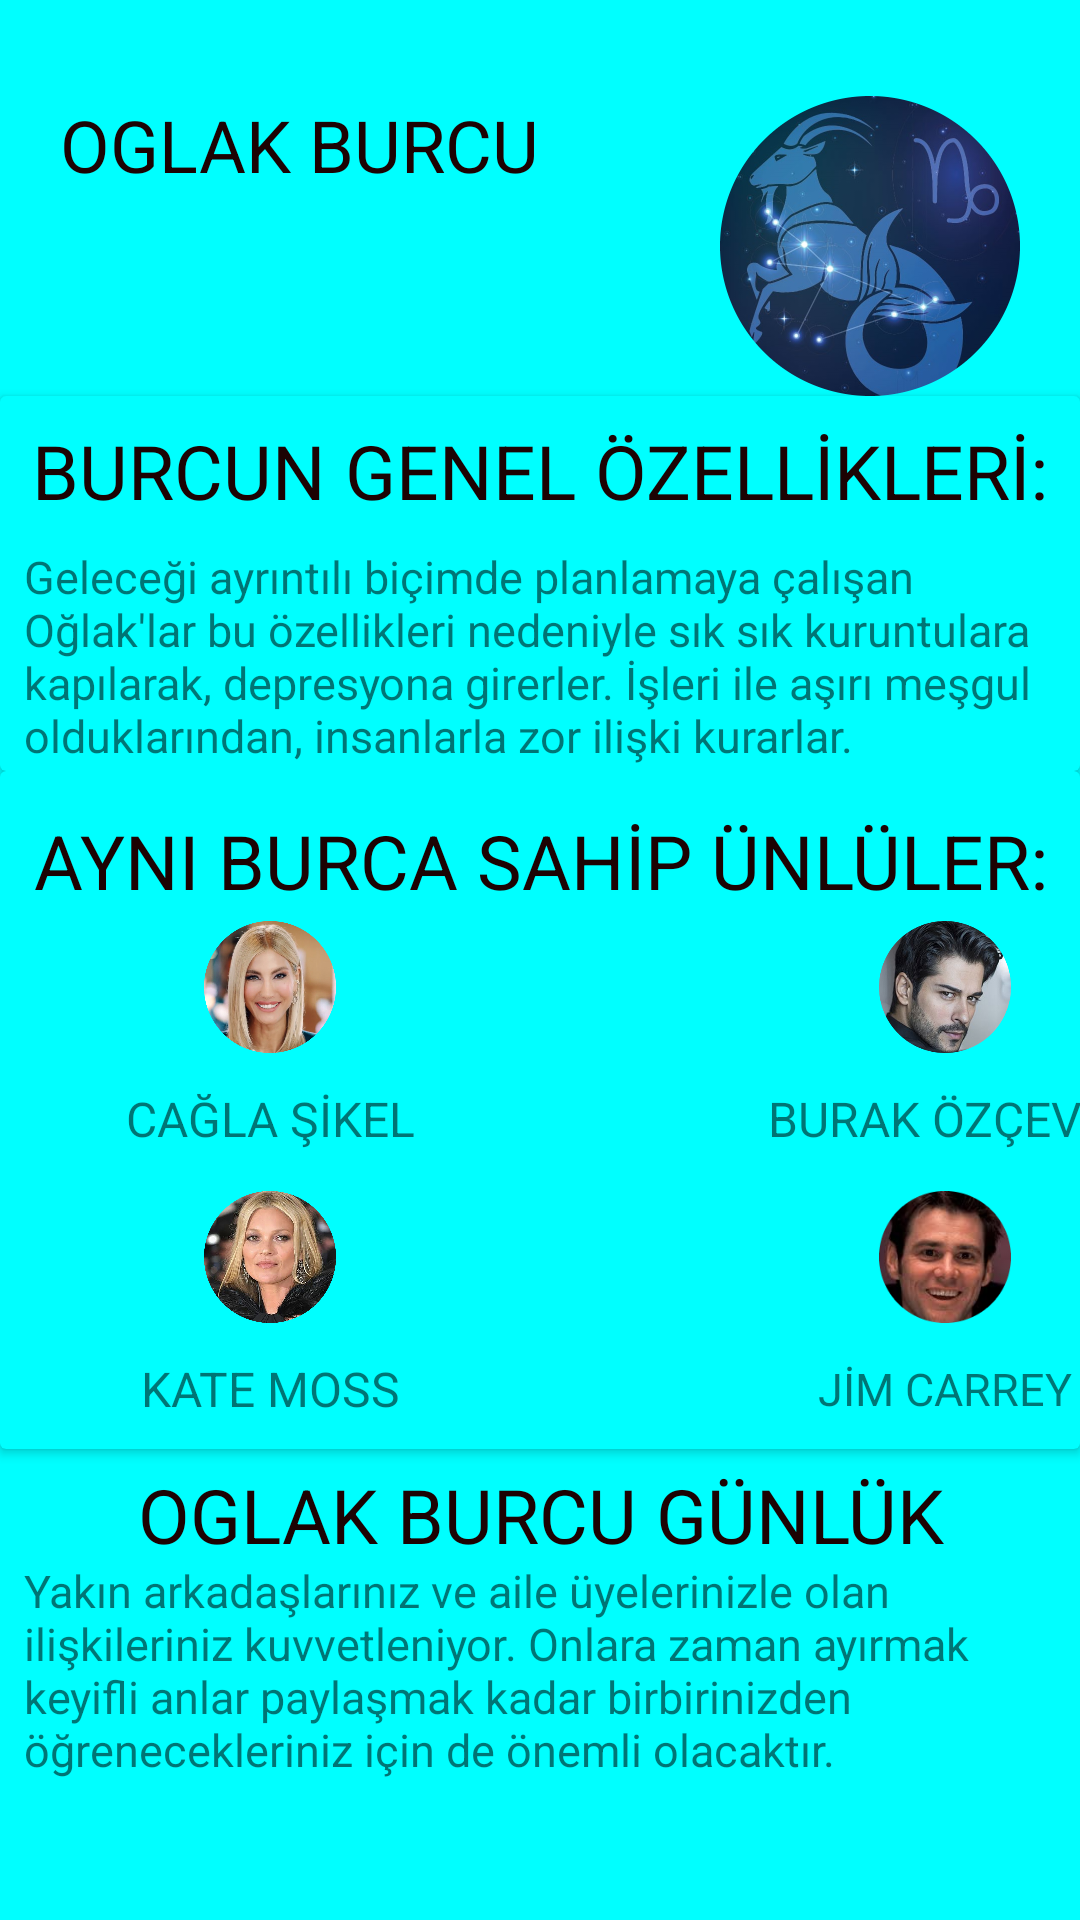

Locate icon controls on the screen. Image size 1080x1920, boxes as BBox(x1, y1, x2, y2).
oglak: BBox(720, 96, 1020, 396)
